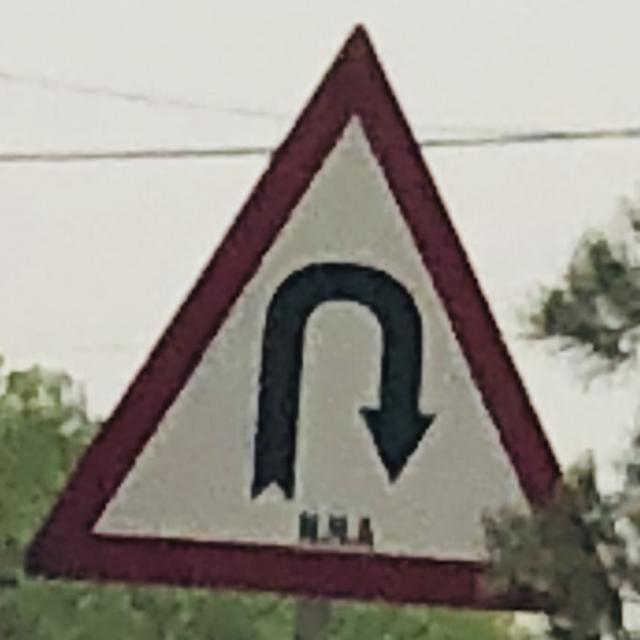u turn: (32, 28, 603, 621)
